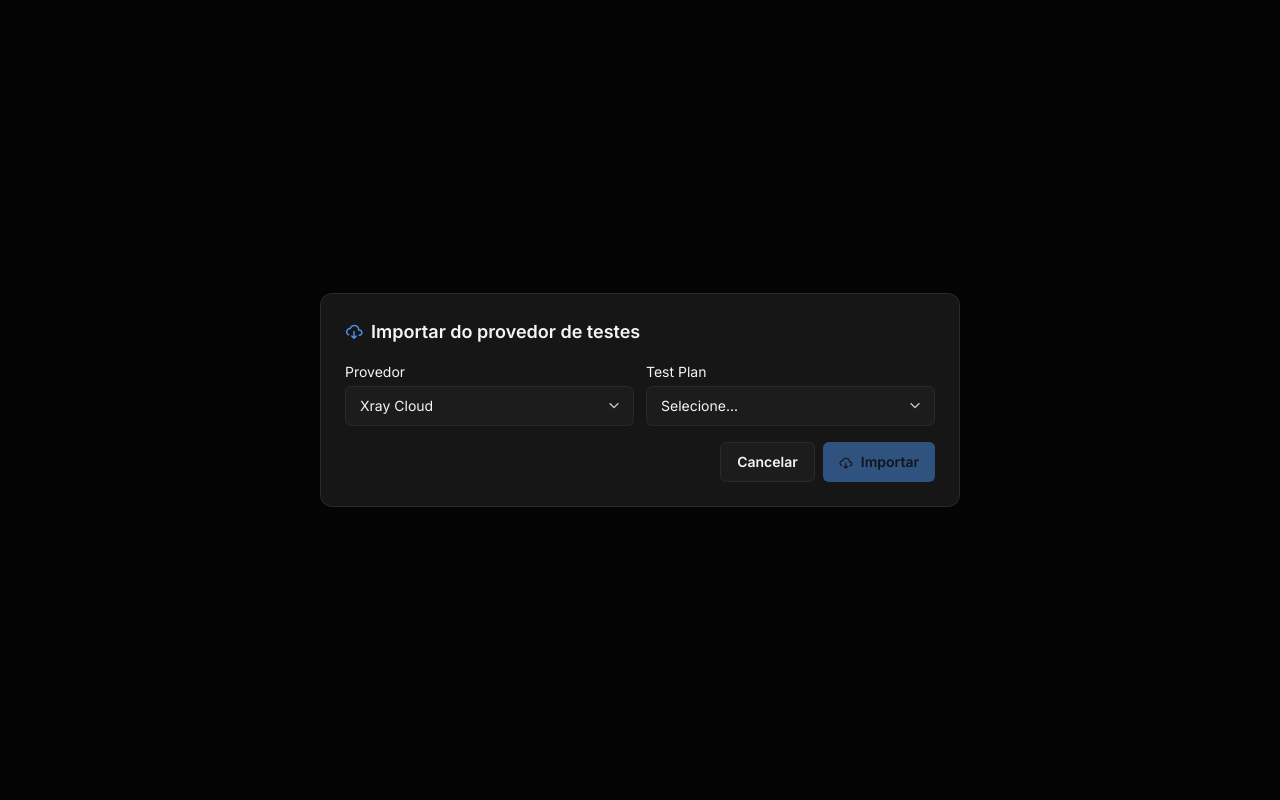
it: ImportTestCasesModal › lists the cases of a plan on platforms without suites
The image size is (1280, 800).
Expected: the dropdown labelled "Provedor" shows "Xray Cloud", [345, 386, 634, 426]
Select "Sprint 10" in the dropdown labelled "Test Plan" at point(790, 406), box [646, 386, 935, 426]
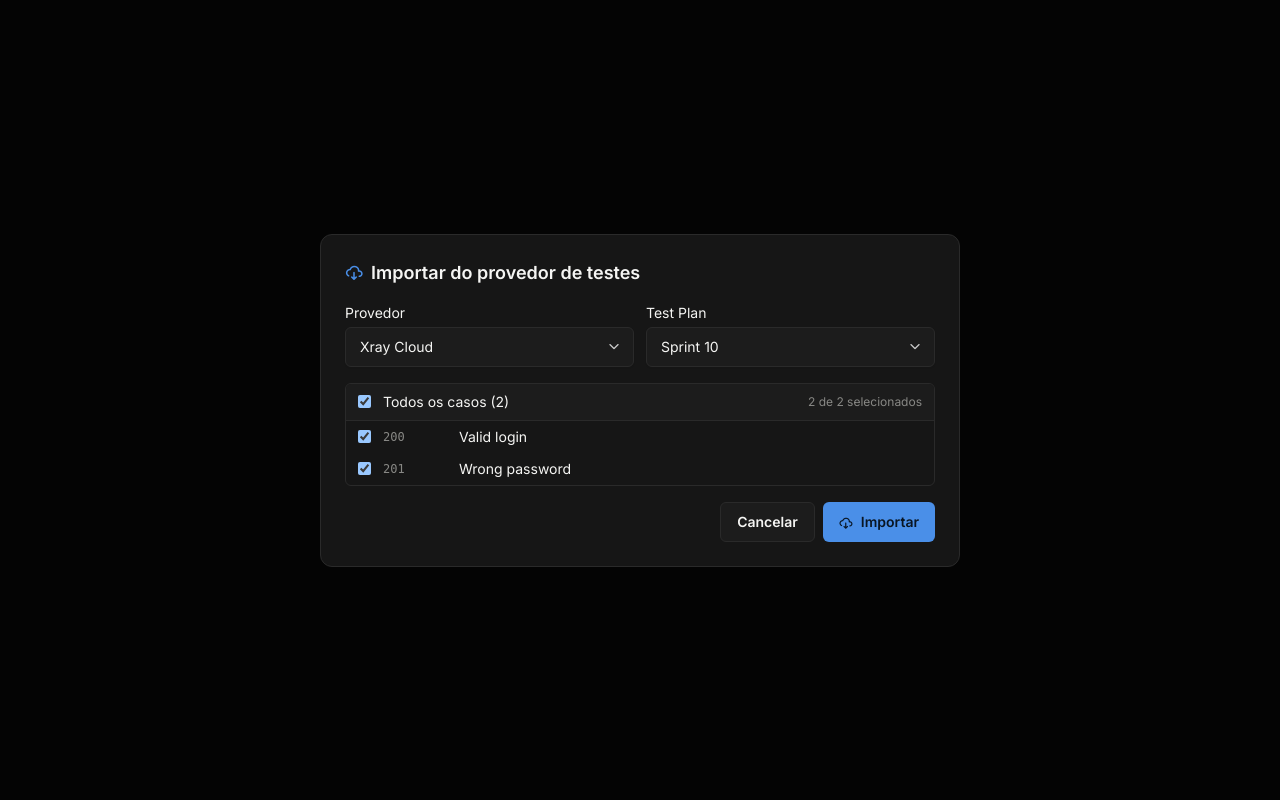
Expected: the text "Valid login" is shown, [459, 428, 527, 444]
